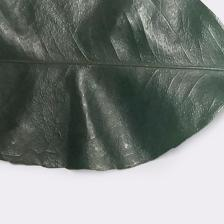healthy: (1, 2, 216, 156)
